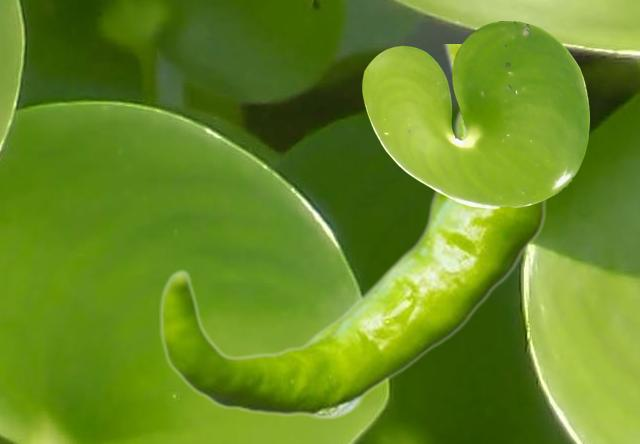green_chili: (159, 44, 549, 419)
